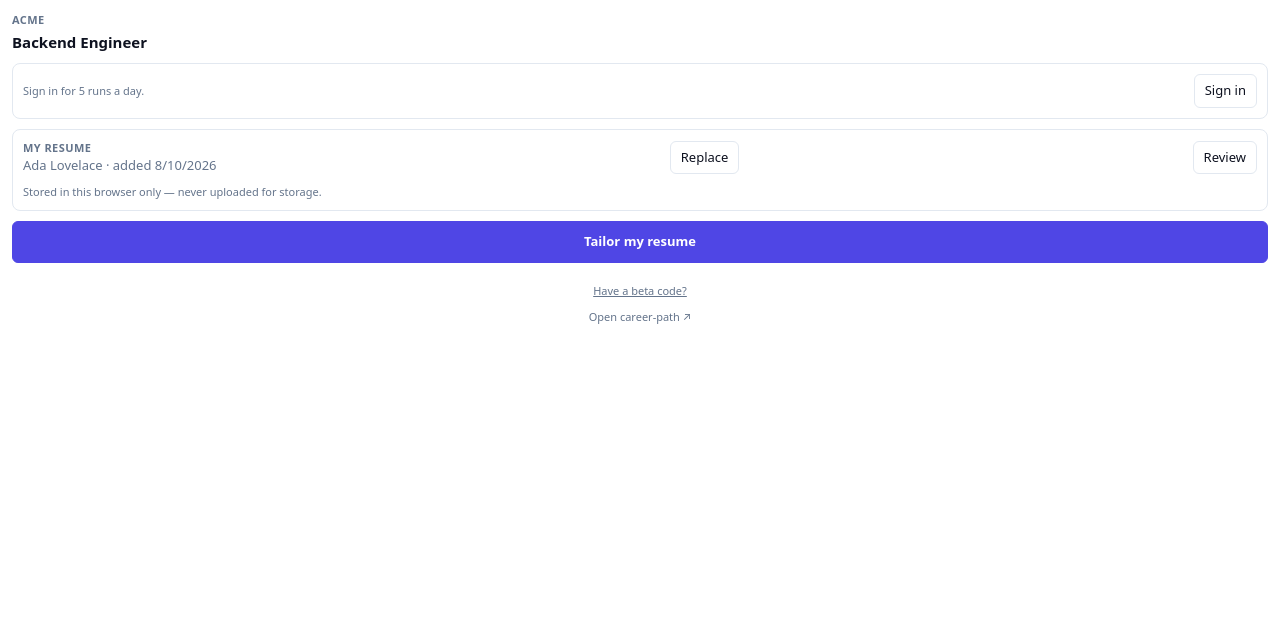
Test: App - cross-posting state › keeps the baseline fixed when the same posting is regenerated
Click the button "Tailor my resume" at (640, 242), box [12,221,1268,262]
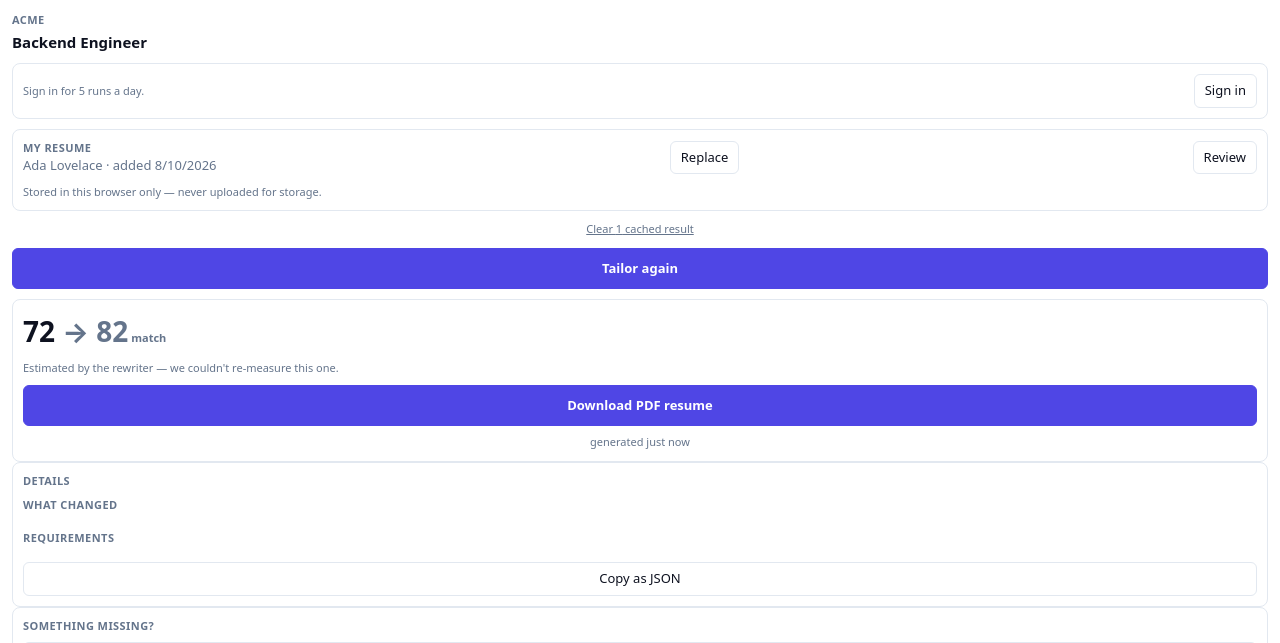
Expected: the element showing "72 → 82 match" is shown, [23,312,166,350]
Click the button "Tailor again" at (640, 268), box [12,248,1268,289]
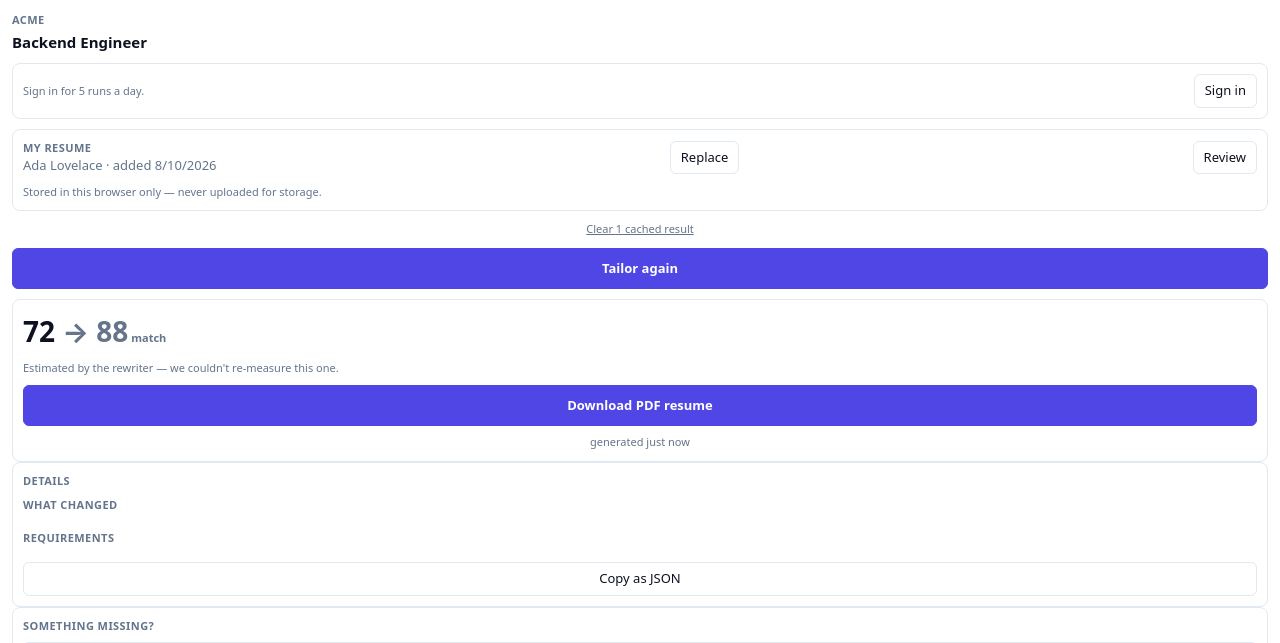
Expected: the element showing "72 → 88 match" is shown, [23,312,166,350]
